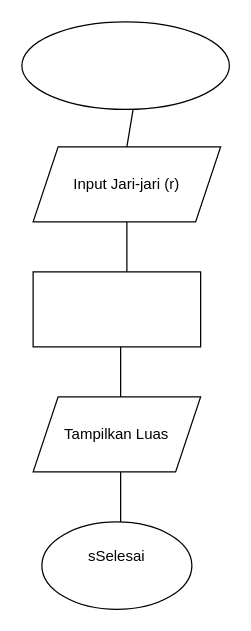
Image size: 251x631. Some labels were removed from this diagram. The centre of each missing label's shape, as x and y in pixels:
"Hitung Luas = 3.14*r*r" goes at (116,309).
"Mulai" goes at (125,65).
